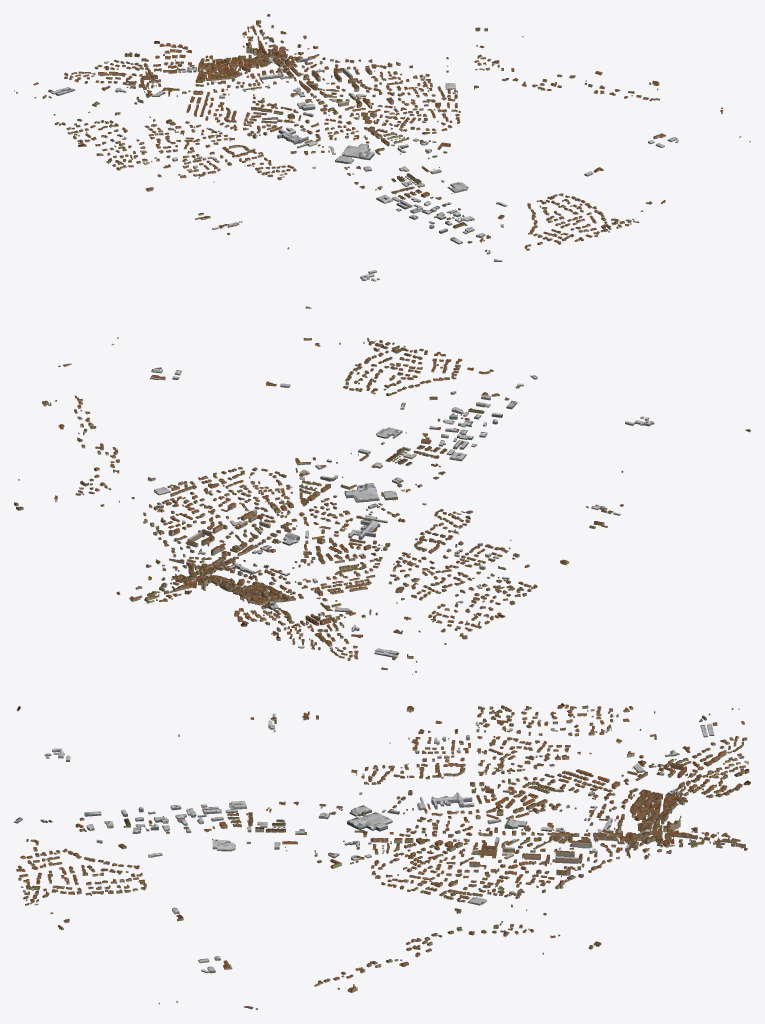
The model's file is batiments_leger.glb.
3 views of the same model, one above another, from view 1: azimuth 30°, elevation 25°; view 2: azimuth 150°, elevation 25°; view 3: azimuth 270°, elevation 25° (orthographic). The views are drawn at different scales.
Parts seen in each view (by area): view 1: tuiles_1_0, facades_1_0, facades_1_1, facades_0_1, tuiles_1_1, facades_0_0, facades_2_1, tuiles_0_1, tuiles_2_1, tuiles_0_0, facades_1_2, facades_2_3 (+5 smaller); view 2: facades_1_0, facades_1_1, tuiles_1_0, facades_0_1, facades_2_1, facades_0_0, tuiles_1_1, tuiles_0_1, tuiles_2_1, tuiles_0_0, facades_1_2, toit_plat_1_2 (+6 smaller); view 3: facades_1_0, facades_1_1, tuiles_1_0, tuiles_1_1, facades_2_1, facades_0_1, facades_0_0, tuiles_0_1, tuiles_2_1, tuiles_0_0, facades_1_2, toit_plat_1_2 (+6 smaller).
Boxes of the visible parts, bbox=[...] form: tuiles_1_0: bbox=[148, 20, 337, 110]; facades_1_0: bbox=[148, 21, 334, 111]; facades_1_1: bbox=[218, 74, 407, 155]; facades_0_1: bbox=[78, 112, 280, 191]; tuiles_1_1: bbox=[219, 74, 406, 154]; facades_0_0: bbox=[14, 53, 210, 144]; facades_2_1: bbox=[348, 56, 518, 130]; tuiles_0_1: bbox=[78, 111, 279, 190]; tuiles_2_1: bbox=[348, 54, 517, 129]; tuiles_0_0: bbox=[16, 52, 210, 143]; facades_1_2: bbox=[287, 138, 468, 211]; facades_2_3: bbox=[527, 169, 665, 241]; facades_1_0: bbox=[129, 541, 348, 626]; facades_1_1: bbox=[206, 484, 405, 576]; tuiles_1_0: bbox=[129, 539, 347, 625]; facades_0_1: bbox=[355, 518, 569, 617]; facades_2_1: bbox=[75, 465, 282, 537]; facades_0_0: bbox=[271, 579, 499, 674]; tuiles_1_1: bbox=[205, 484, 404, 574]; tuiles_0_1: bbox=[354, 517, 567, 616]; tuiles_2_1: bbox=[76, 463, 281, 535]; tuiles_0_0: bbox=[271, 578, 499, 671]; facades_1_2: bbox=[299, 431, 477, 516]; toit_plat_1_2: bbox=[299, 427, 476, 504]; facades_1_0: bbox=[562, 778, 750, 857]; facades_1_1: bbox=[382, 782, 568, 859]; tuiles_1_0: bbox=[562, 778, 750, 855]; tuiles_1_1: bbox=[386, 781, 569, 858]; facades_2_1: bbox=[381, 854, 566, 934]; facades_0_1: bbox=[381, 704, 565, 784]; facades_0_0: bbox=[561, 705, 749, 783]; tuiles_0_1: bbox=[381, 703, 565, 783]; tuiles_2_1: bbox=[381, 853, 566, 933]; tuiles_0_0: bbox=[562, 704, 748, 782]; facades_1_2: bbox=[197, 782, 392, 860]; toit_plat_1_2: bbox=[198, 792, 392, 859].
Bounding box in the file's own units: 2235 × 55.97 × 2251.
5 materials, 3 textured.
